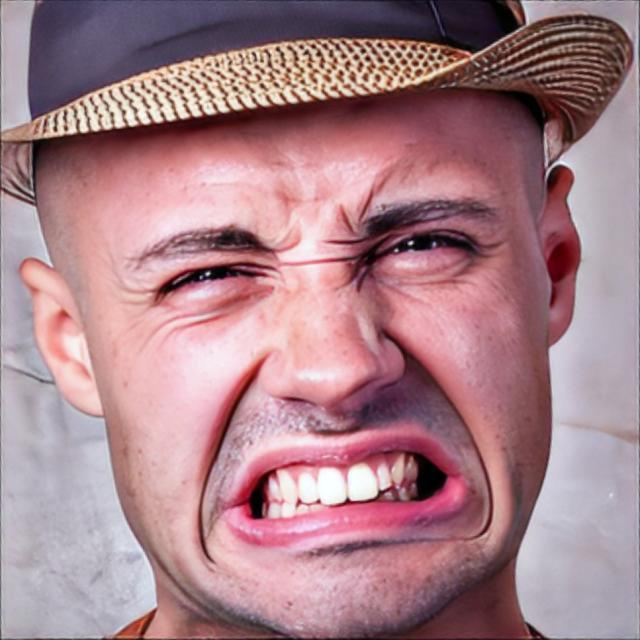disgust: (32, 82, 554, 640)
